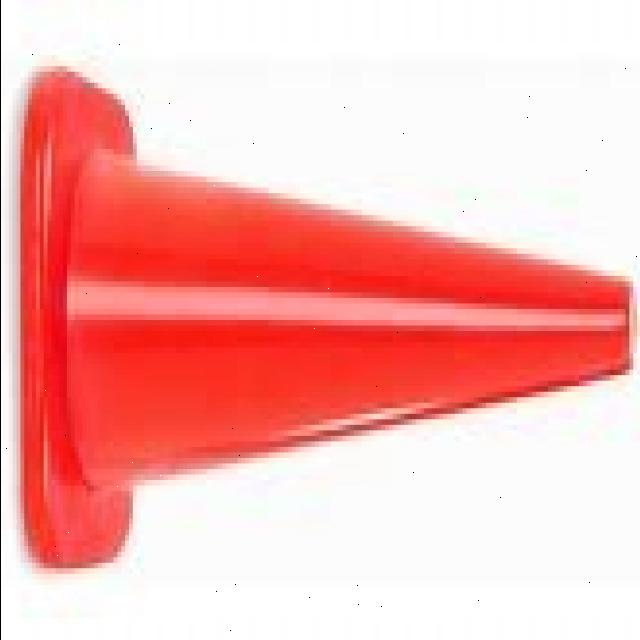traffic cone: (14, 54, 638, 591)
